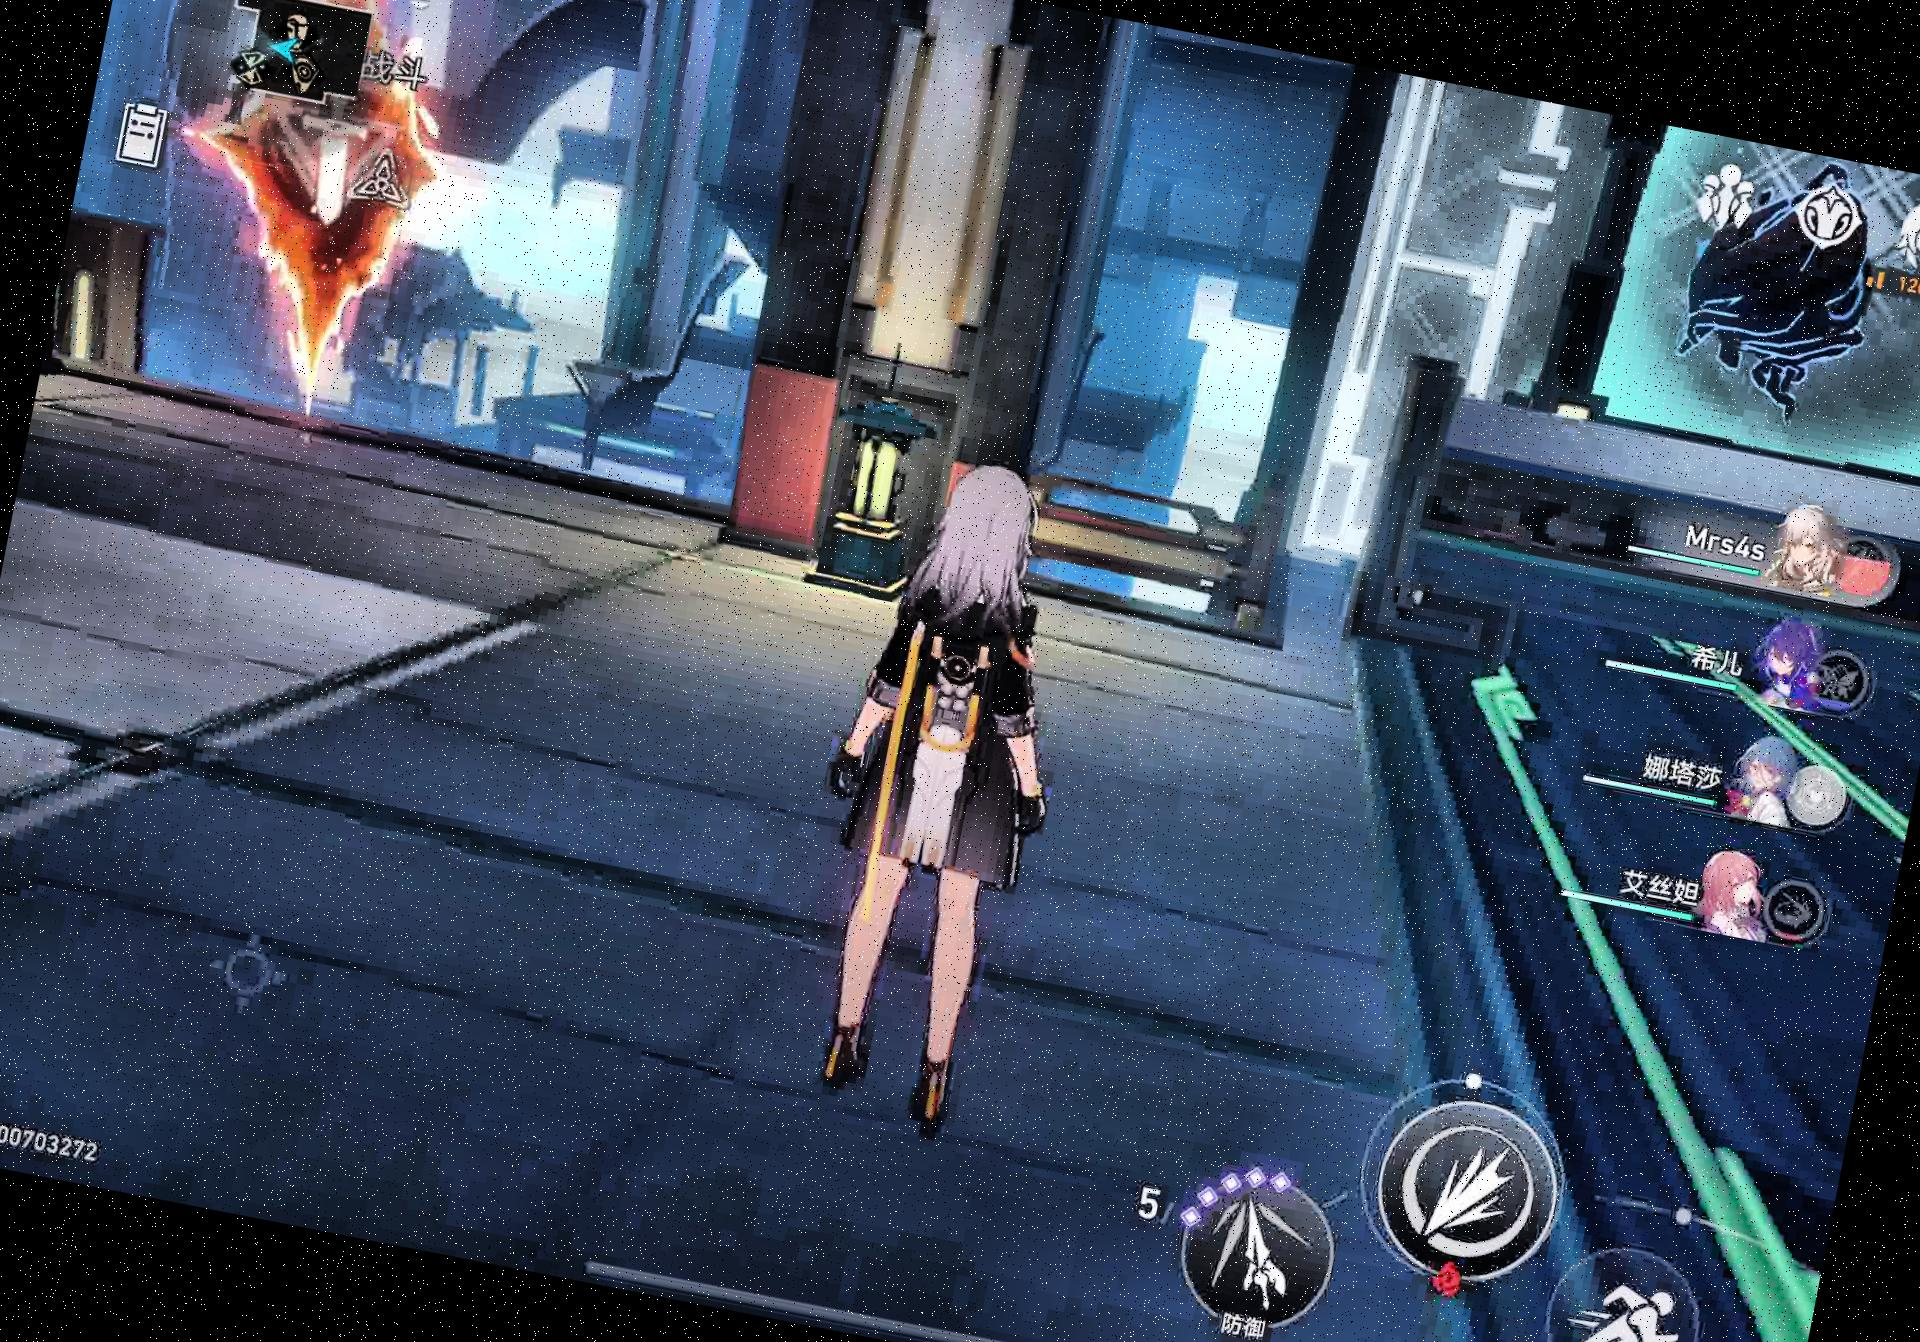BattleDoor: (114, 0, 484, 455)
Self: (751, 443, 1123, 1157)
